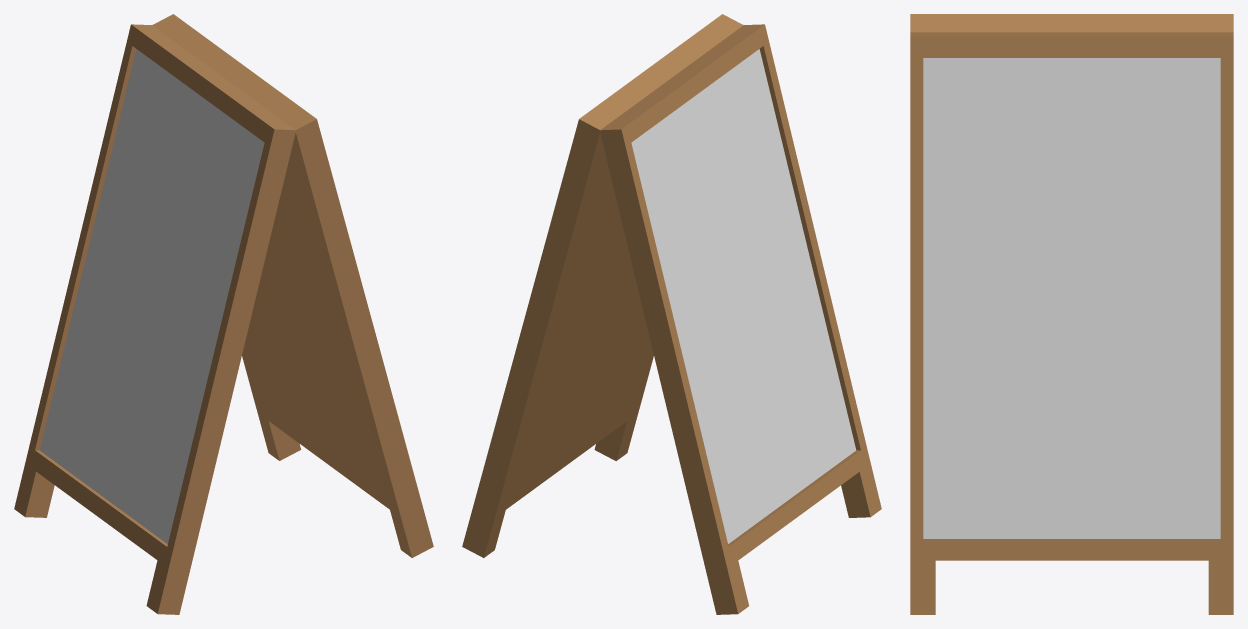
File: outdoor shop sign.fbx
The picture shows the model from 3 angles, left to right: view 1: azimuth 30°, elevation 25°; view 2: azimuth 150°, elevation 25°; view 3: azimuth 270°, elevation 25°; orthographic projection. The views are drawn at different scales.
Parts seen in each view (by area): view 1: Cube.001; view 2: Cube.001; view 3: Cube.001.
Boxes of the visible parts, x1=… form: Cube.001: x1=14, y1=14, x2=433, y2=614; Cube.001: x1=462, y1=14, x2=881, y2=614; Cube.001: x1=910, y1=14, x2=1233, y2=614.
Size of the model in its own units: 395 by 632 by 356.
